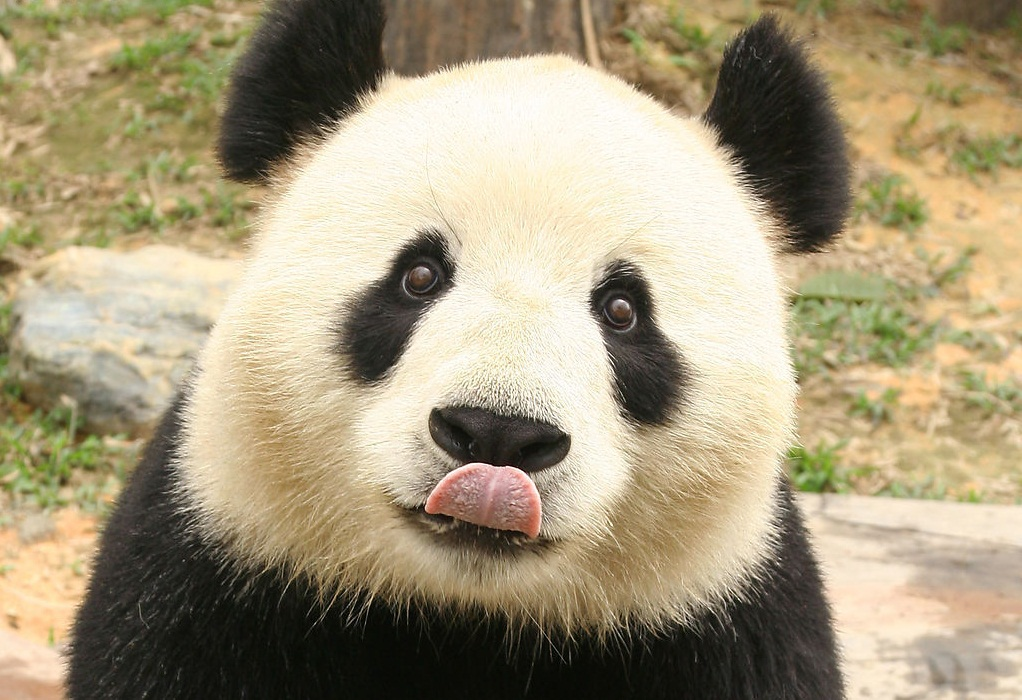panda: (140, 30, 833, 700)
